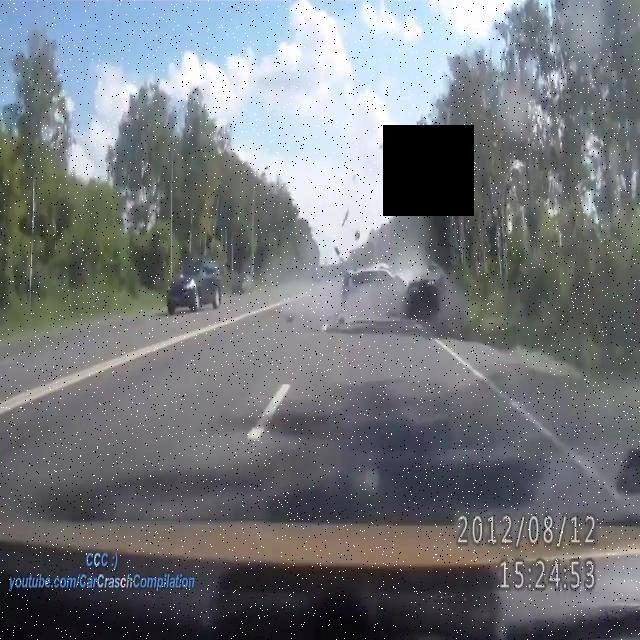severe: (340, 256, 450, 325)
